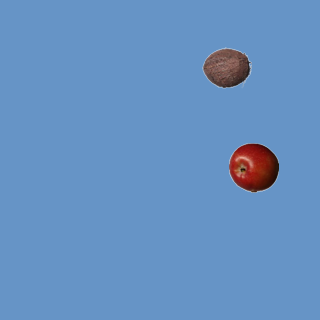Apple Braeburn: (228, 142, 278, 192)
Cocos: (201, 42, 251, 92)
